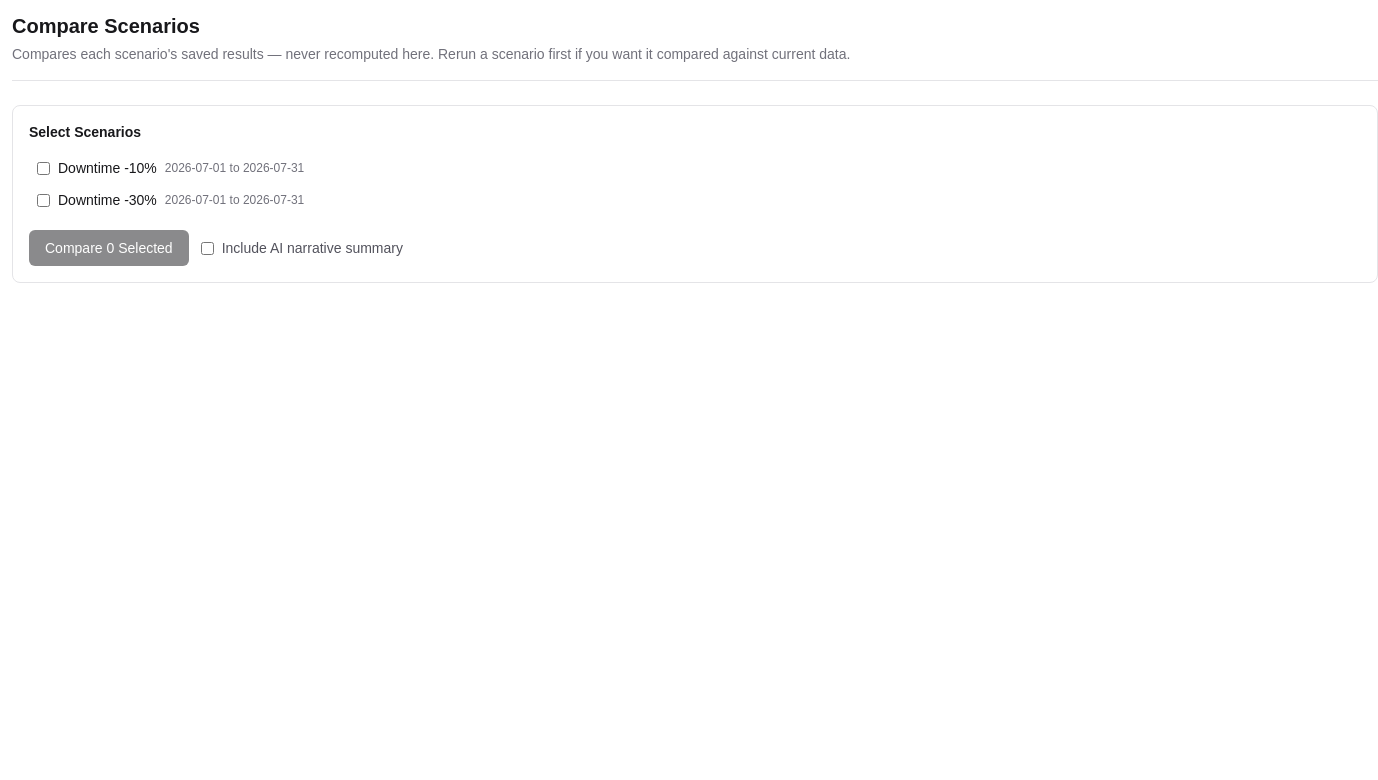
Test: CompareScenariosPage › renders per-metric bar charts once 2+ scenarios are compared
Expected: the text "Downtime -10%" is shown, [58,158,157,178]
Click the checkbox labelled "Downtime -10% 2026-07-01 to 2026-07-31" at (44, 168), box [37,162,50,174]
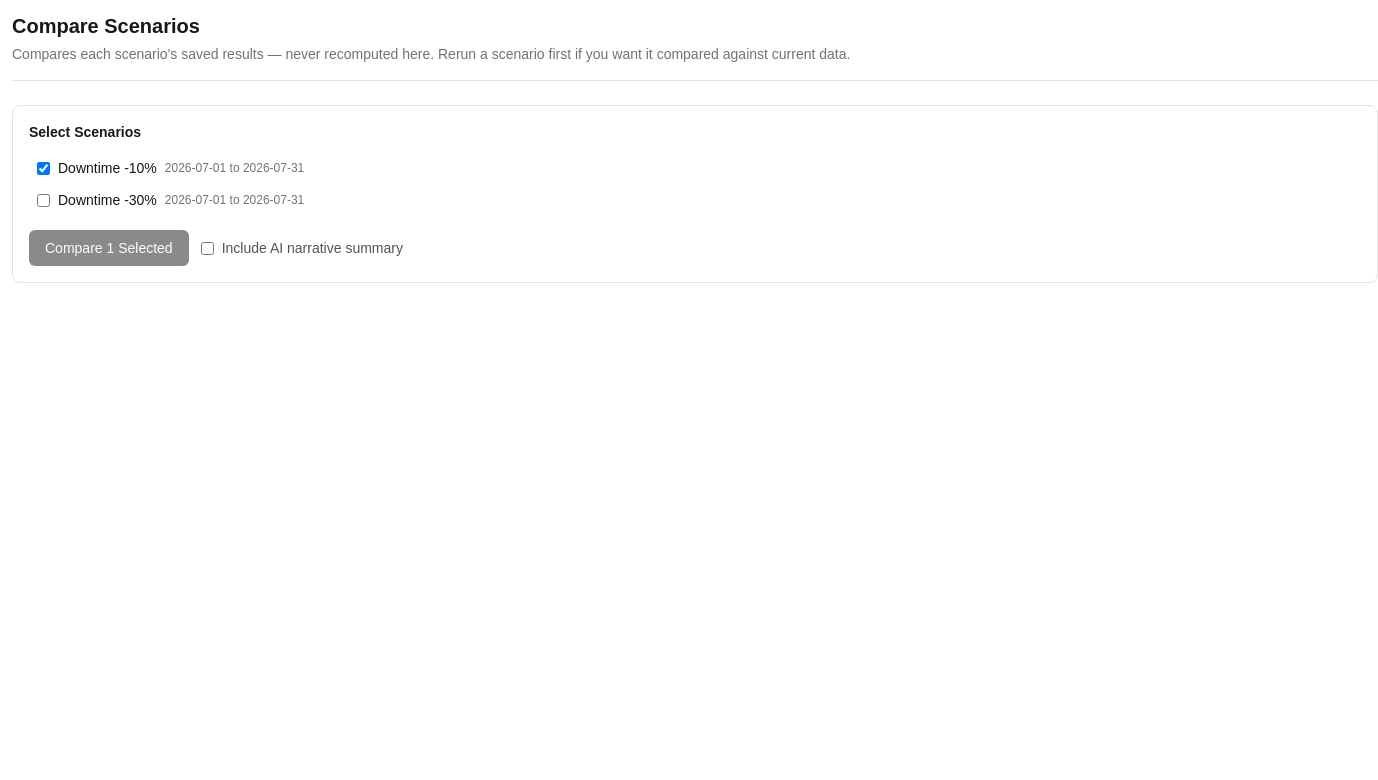
Click the checkbox labelled "Downtime -30% 2026-07-01 to 2026-07-31" at (44, 200), box [37,194,50,206]
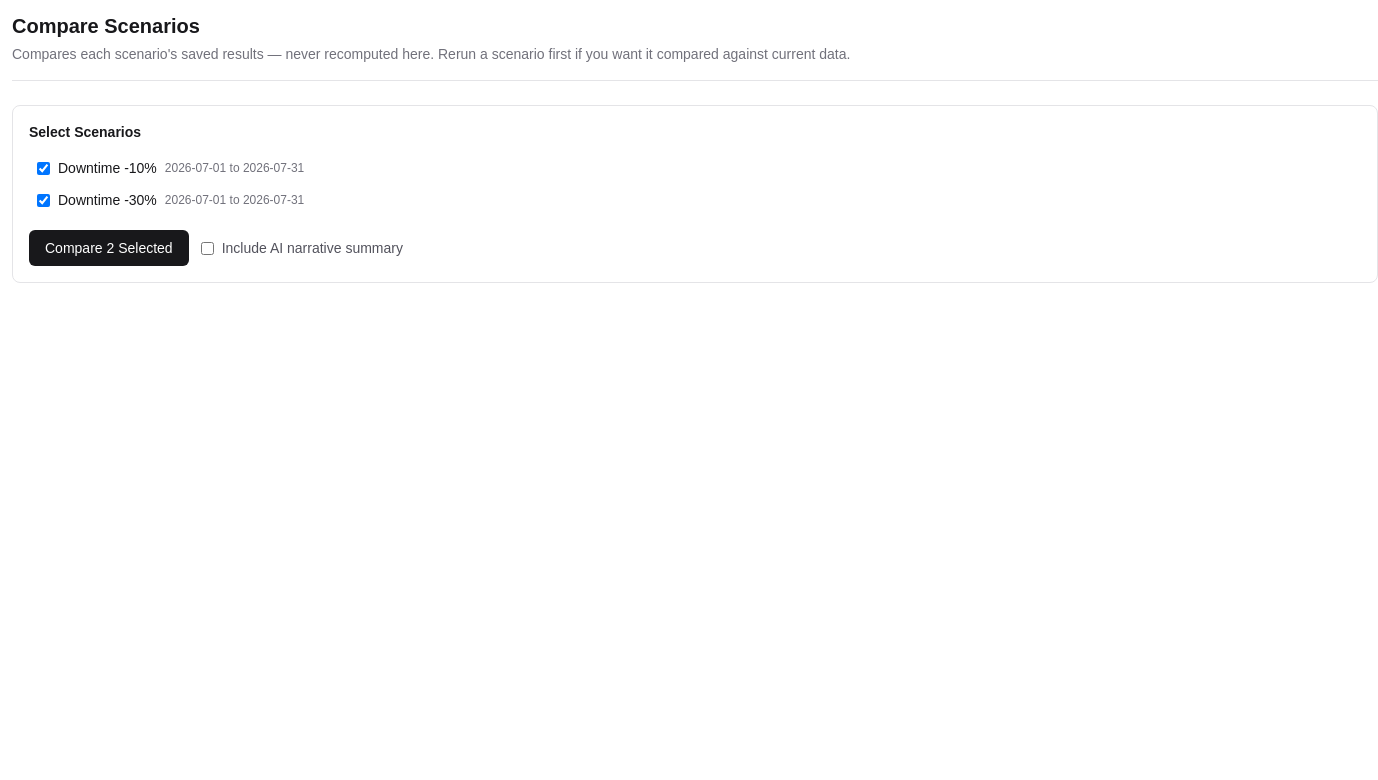
Click the button "Compare 2 Selected" at (109, 248), box [29,230,189,266]
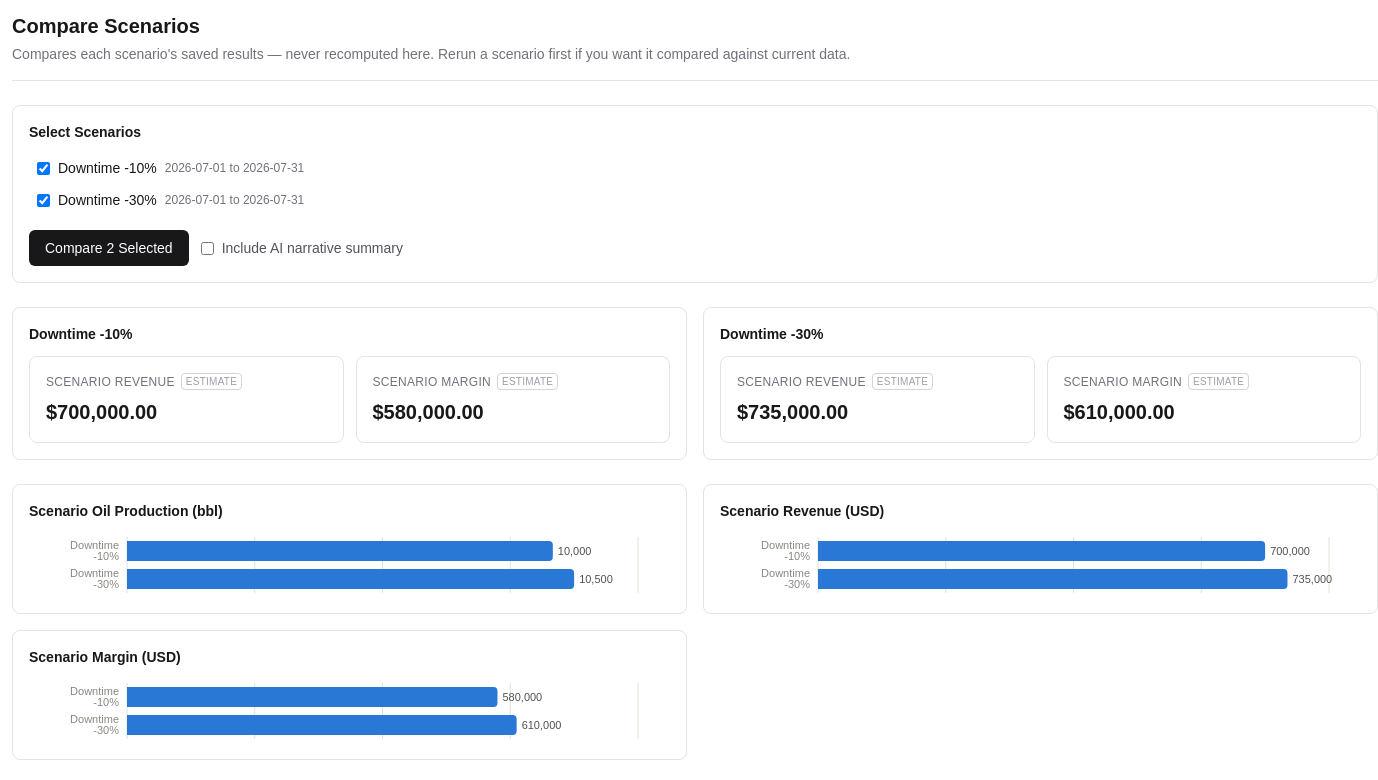
Expected: the heading "Scenario Oil Production (bbl)" is shown, [29,503,223,519]
Expected: the heading "Scenario Revenue (USD)" is shown, [720,503,884,519]
Expected: the heading "Scenario Margin (USD)" is shown, [29,649,181,665]
